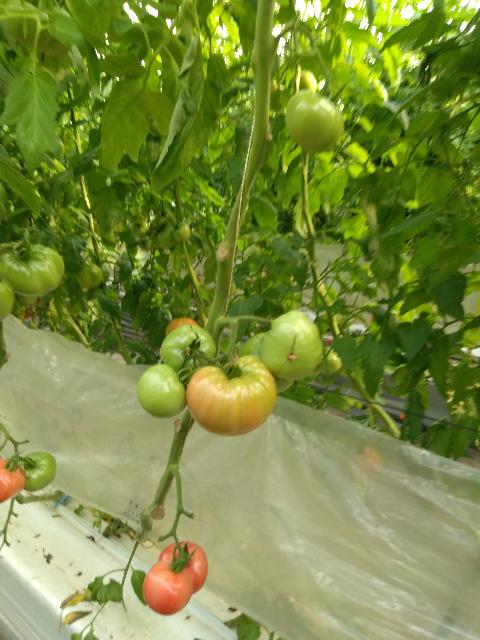b_green: (259, 310, 324, 380), (285, 88, 343, 151), (0, 242, 66, 296), (159, 324, 216, 383), (136, 363, 186, 418), (19, 451, 56, 492), (0, 275, 14, 323), (77, 263, 102, 289)
b_half_ripened: (186, 355, 277, 437), (143, 562, 193, 617), (158, 541, 208, 595), (0, 458, 27, 503), (165, 317, 200, 337)
